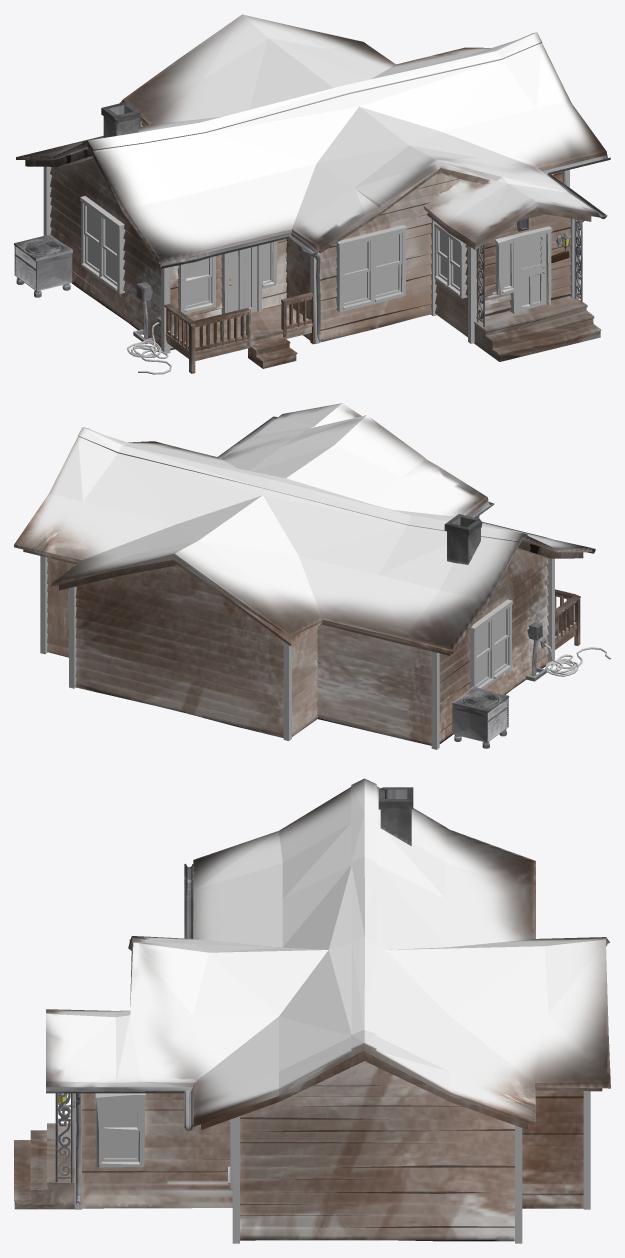
Rendered from StartHouse.fbx.
3 renders of one model, top to bottom at view 1: azimuth 30°, elevation 25°; view 2: azimuth 150°, elevation 25°; view 3: azimuth 270°, elevation 25°, orthographic. The views are drawn at different scales.
Visible parts, largest first — view 1: SM_House_01.mo; view 2: SM_House_01.mo; view 3: SM_House_01.mo.
Part boxes in pixels (x1=…): SM_House_01.mo: x1=14, y1=14, x2=610, y2=374; SM_House_01.mo: x1=14, y1=403, x2=610, y2=749; SM_House_01.mo: x1=14, y1=778, x2=610, y2=1243.
Bounding box in the file's own units: 1377 × 530 × 1262.
